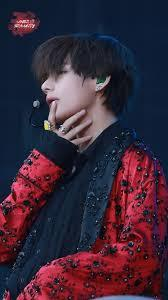earphone: (94, 73, 108, 87)
